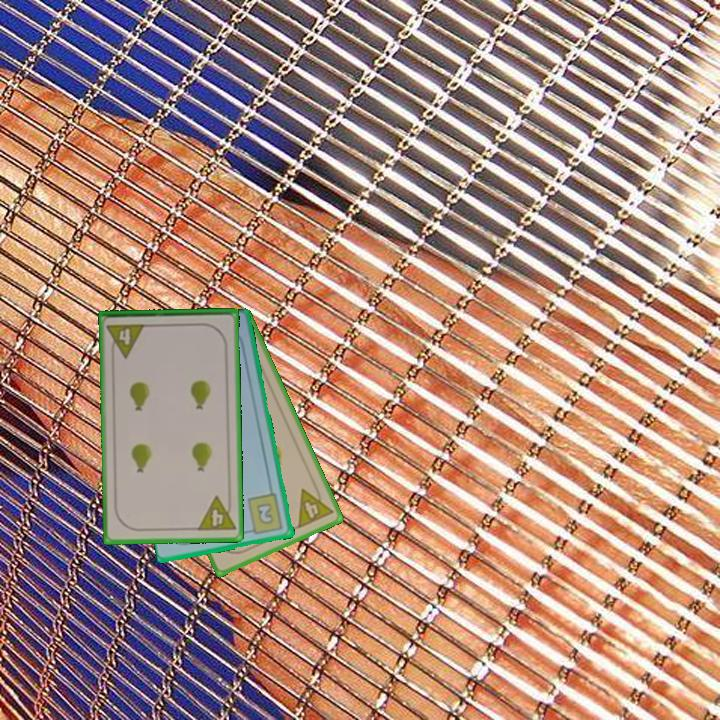2b: (244, 491, 286, 537)
4p: (294, 480, 336, 531), (194, 493, 238, 534), (104, 320, 148, 360)
